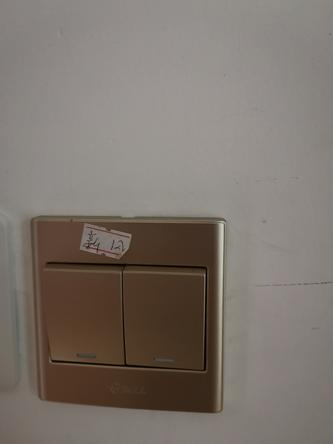switch: (32, 257, 127, 373), (117, 260, 209, 376)
